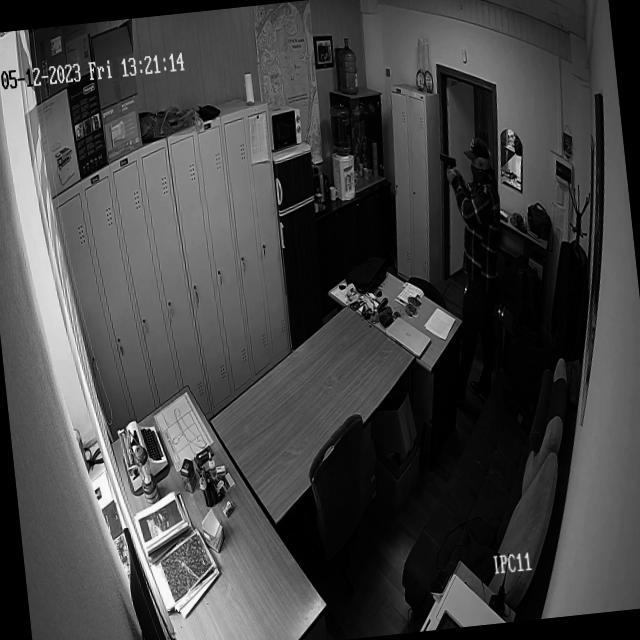gun: (438, 146, 461, 180)
person with a gun: (436, 133, 513, 328)
